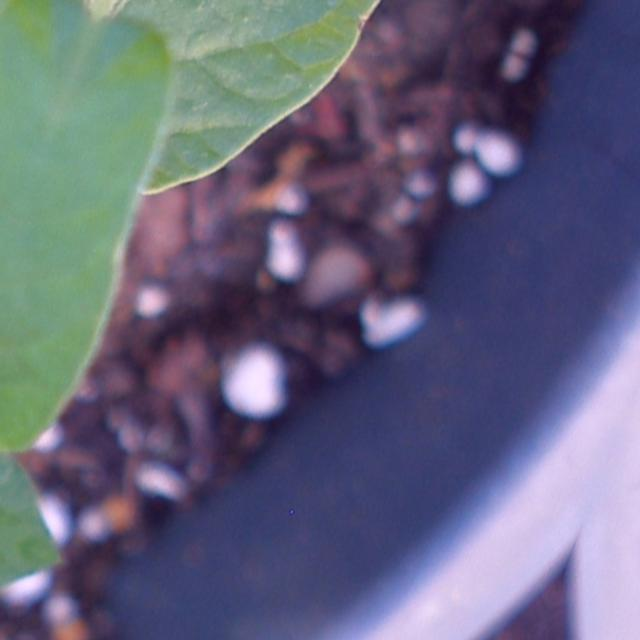Tomato leaf: (26, 0, 464, 321), (0, 0, 241, 548), (35, 491, 509, 640)
